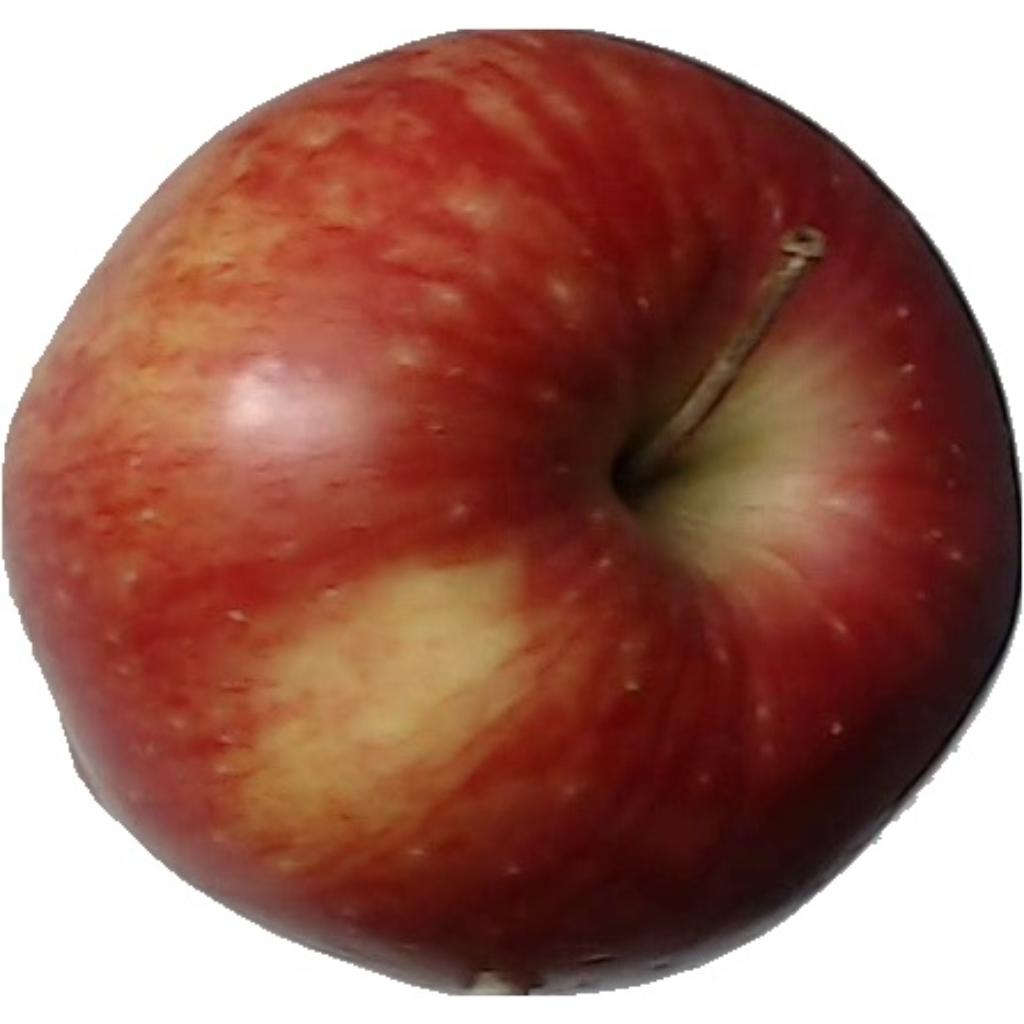apple: (0, 33, 1024, 997)
